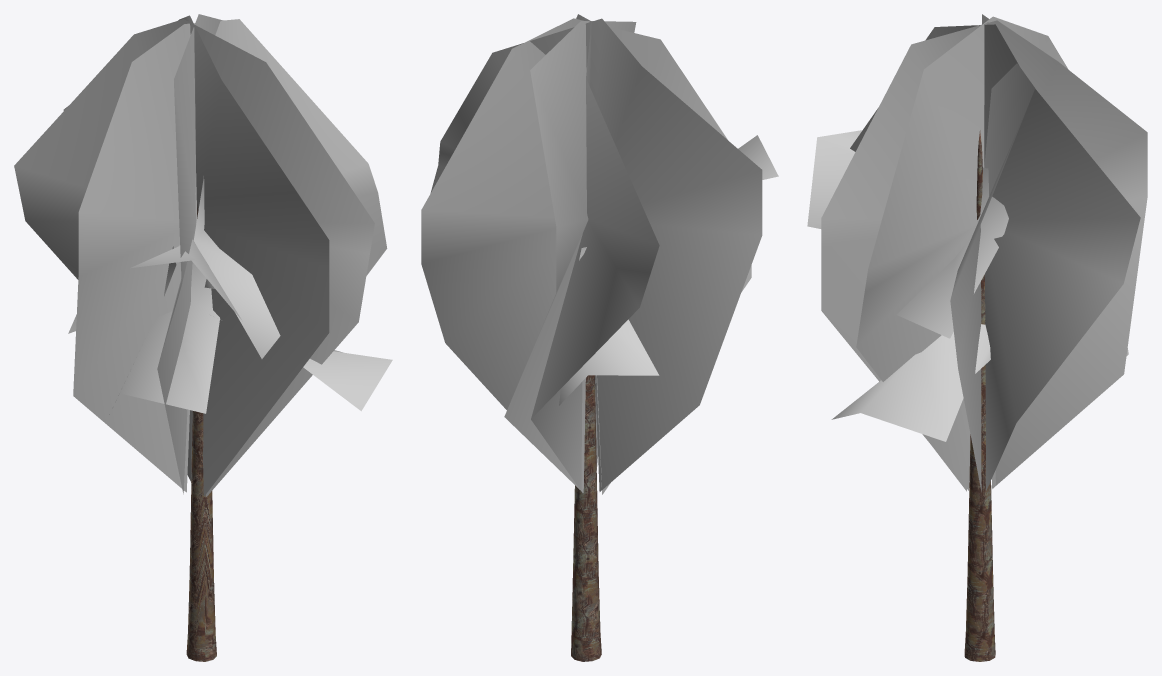
Rendered from Fol_PinePlateA.FBX.
3 renders of one model, left to right at view 1: azimuth 30°, elevation 25°; view 2: azimuth 150°, elevation 25°; view 3: azimuth 270°, elevation 25°, orthographic.
Parts seen in each view (by area): view 1: Pine_Plate_1, Trunk; view 2: Pine_Plate_1, Trunk; view 3: Pine_Plate_1, Trunk.
Boxes of the visible parts, x1,y1,x2,y2 form: Pine_Plate_1: (14, 14, 392, 496); Trunk: (186, 204, 216, 661); Pine_Plate_1: (421, 14, 778, 494); Trunk: (571, 375, 601, 661); Pine_Plate_1: (807, 14, 1147, 491); Trunk: (964, 130, 995, 661).
Size of the model in its own units: 1044 by 1959 by 953.
